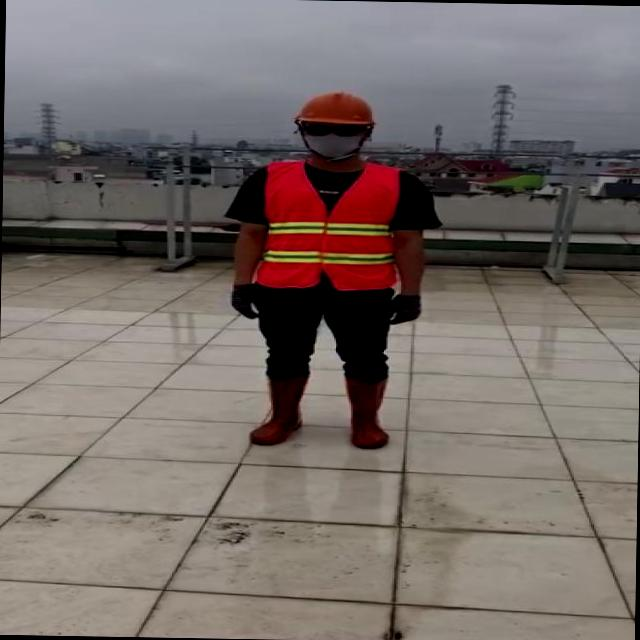boots: (246, 374, 310, 445), (345, 372, 392, 449)
gloves: (380, 290, 424, 326), (227, 280, 264, 321)
helmet: (294, 90, 379, 127)
vest: (251, 160, 403, 292)
